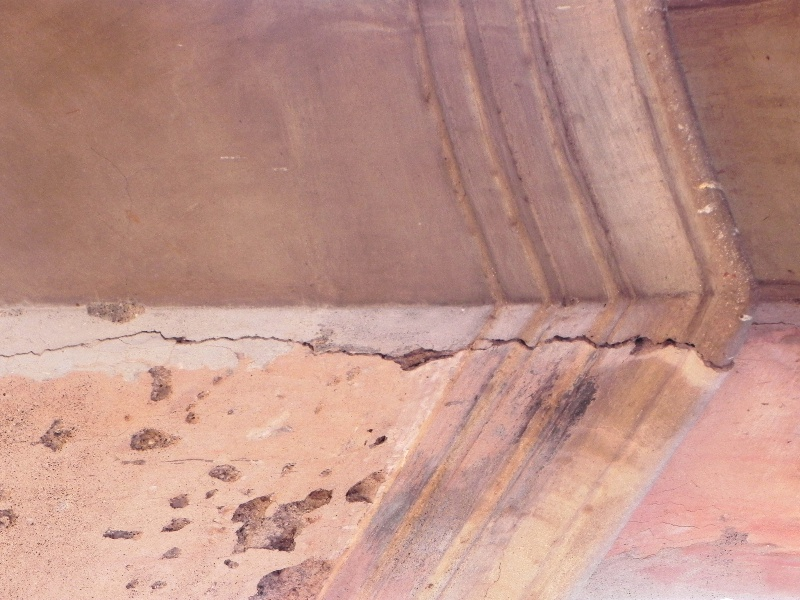Crack: (1, 326, 741, 385)
Spalling: (208, 458, 387, 557), (32, 414, 180, 458), (243, 559, 342, 600)
